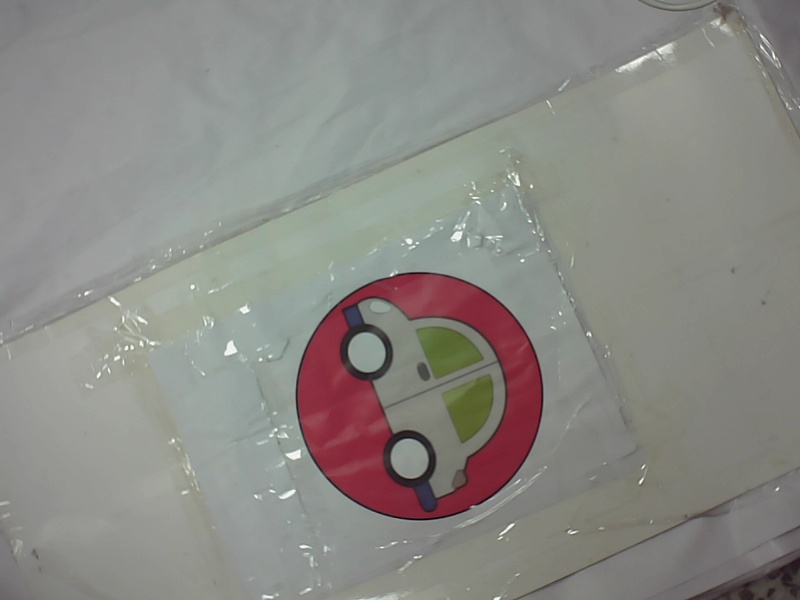areaC: (288, 267, 551, 525)
